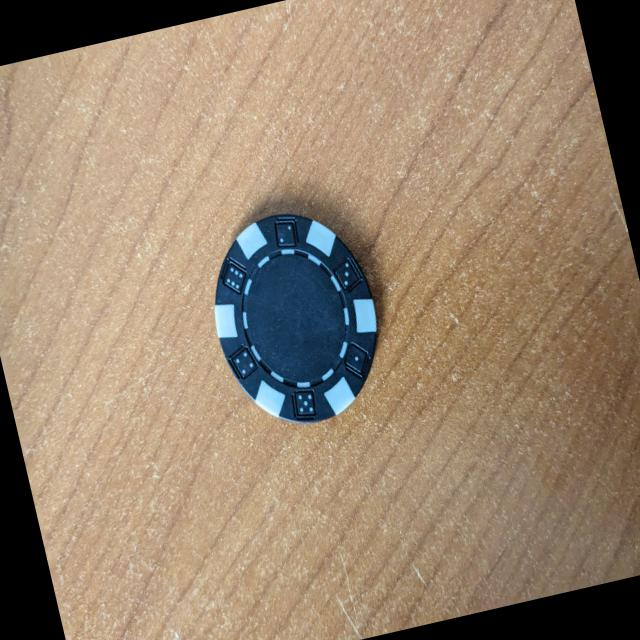black chip: (213, 213, 381, 425)
